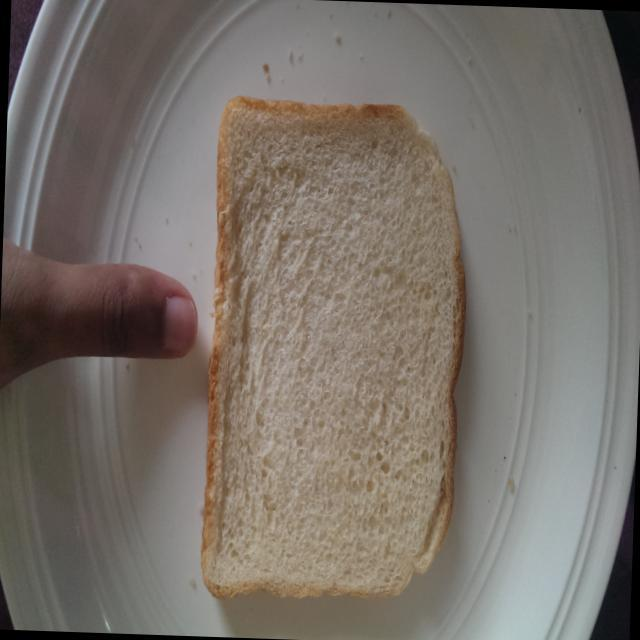Bread: (188, 76, 482, 628)
Finger: (65, 257, 204, 375)
